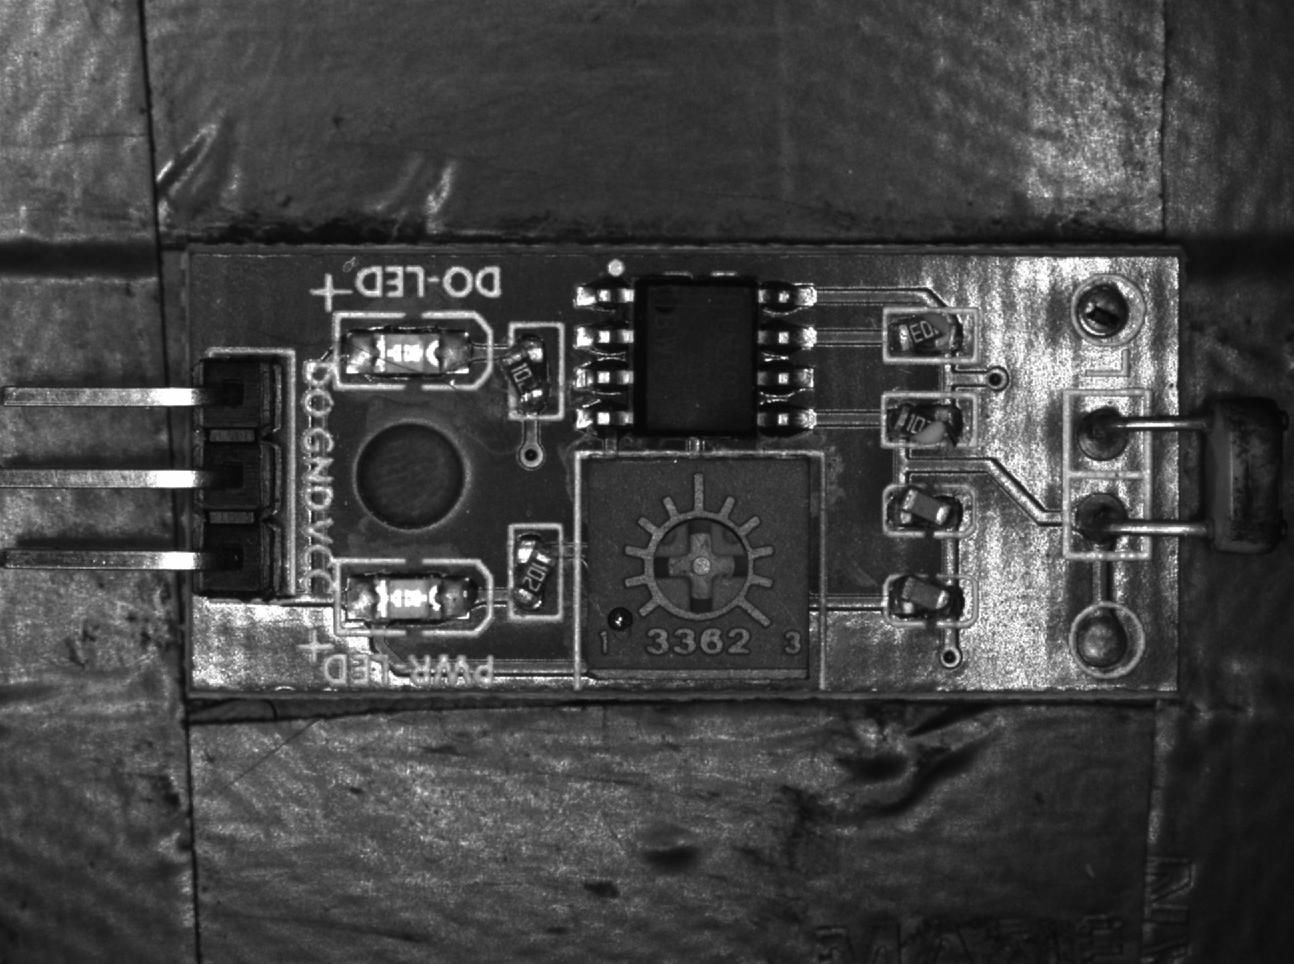lifted: (881, 307, 986, 366), (503, 323, 564, 419), (877, 480, 979, 537), (505, 523, 562, 624), (886, 572, 984, 625), (881, 395, 975, 450)
